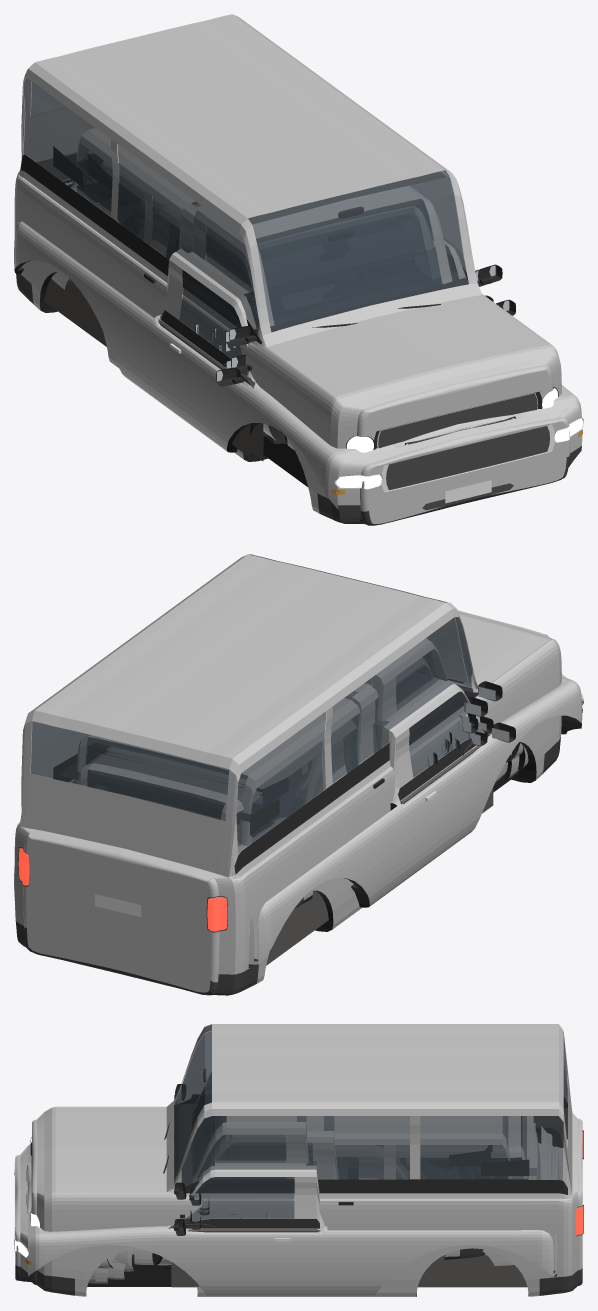
Rendered from cars.glb.
3 views of the same model, one above another, from view 1: azimuth 30°, elevation 25°; view 2: azimuth 150°, elevation 25°; view 3: azimuth 270°, elevation 25° (orthographic). The views are drawn at different scales.
Parts seen in each view (by area): view 1: behemoth__roof, behemoth__glass, behemoth__hood, sidewinder__glass, mammoth__quarterR, behemoth__quarterR, mammoth__fascia, mammoth__doorR, behemoth__pillars, behemoth__trunk, behemoth__fenderFR, mammoth__grille (+27 smaller); view 2: behemoth__roof, behemoth__glass, behemoth__rearPanel, behemoth__trunk, behemoth__quarterR, nomad__glass, mammoth__quarterR, mammoth__doorR, behemoth__hood, behemoth__pillars, behemoth__doorR, behemoth__fenderFR (+24 smaller); view 3: behemoth__roof, behemoth__glass, behemoth__hood, behemoth__quarterL, mammoth__quarterL, mammoth__doorL, behemoth__fenderFL, behemoth__doorL, behemoth__seals, nomad__glass, behemoth__pillars, mammoth__glass (+26 smaller).
Part boxes in pixels (bbox=[...]): behemoth__roof: bbox=[28, 14, 450, 224]; behemoth__glass: bbox=[23, 77, 468, 334]; behemoth__hood: bbox=[266, 294, 556, 414]; sidewinder__glass: bbox=[206, 199, 441, 324]; mammoth__quarterR: bbox=[14, 221, 164, 403]; behemoth__quarterR: bbox=[14, 170, 125, 367]; mammoth__fascia: bbox=[360, 418, 569, 523]; mammoth__doorR: bbox=[156, 323, 246, 451]; behemoth__pillars: bbox=[21, 69, 477, 341]; behemoth__trunk: bbox=[21, 107, 482, 347]; behemoth__fenderFR: bbox=[253, 343, 361, 513]; mammoth__grille: bbox=[386, 426, 549, 510]; behemoth__roof: bbox=[25, 554, 451, 774]; behemoth__glass: bbox=[30, 555, 472, 854]; behemoth__rearPanel: bbox=[23, 835, 219, 992]; behemoth__trunk: bbox=[20, 676, 478, 883]; behemoth__quarterR: bbox=[215, 794, 348, 983]; nomad__glass: bbox=[86, 714, 359, 842]; mammoth__quarterR: bbox=[248, 798, 412, 964]; mammoth__doorR: bbox=[404, 740, 494, 878]; behemoth__hood: bbox=[427, 610, 555, 685]; behemoth__pillars: bbox=[21, 554, 477, 865]; behemoth__doorR: bbox=[343, 696, 480, 919]; behemoth__fenderFR: bbox=[477, 640, 561, 780]; behemoth__roof: bbox=[212, 1024, 563, 1114]; behemoth__glass: bbox=[174, 1024, 567, 1186]; behemoth__hood: bbox=[32, 1106, 166, 1196]; behemoth__quarterL: bbox=[395, 1192, 577, 1296]; mammoth__quarterL: bbox=[313, 1228, 556, 1295]; mammoth__doorL: bbox=[180, 1228, 313, 1295]; behemoth__fenderFL: bbox=[37, 1193, 177, 1296]; behemoth__doorL: bbox=[177, 1193, 394, 1296]; behemoth__seals: bbox=[174, 1096, 567, 1194]; nomad__glass: bbox=[312, 1116, 507, 1179]; behemoth__pillars: bbox=[174, 1024, 567, 1190]; mammoth__glass: bbox=[186, 1102, 316, 1221].
Size of the model in its own units: 2.78 by 2.13 by 5.69.
